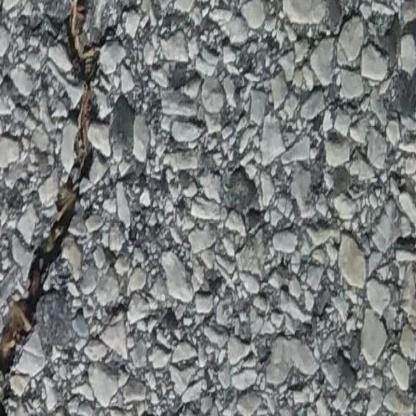Cracks: (0, 0, 108, 385)
